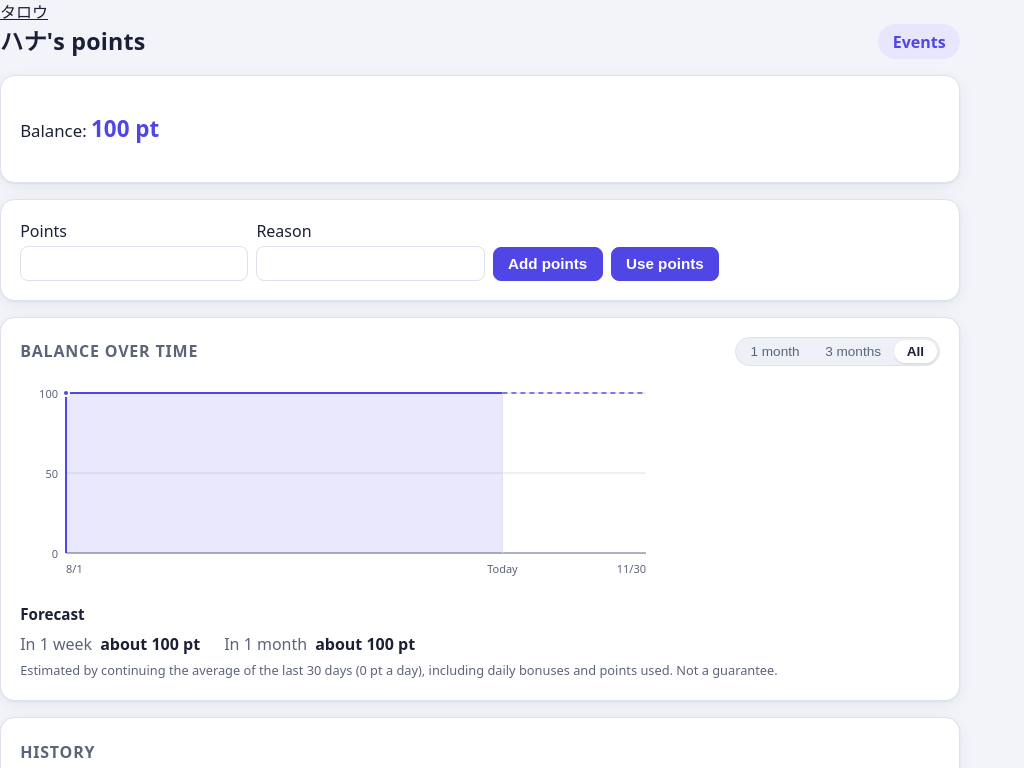
Test: LedgerPage › 別の子へ移ったら、前の子の残高を出したまま待たない
Expected: the text "100 pt" is shown, [91,113,159,144]
Click the link "タロウ": (24, 12) [0,1,48,23]
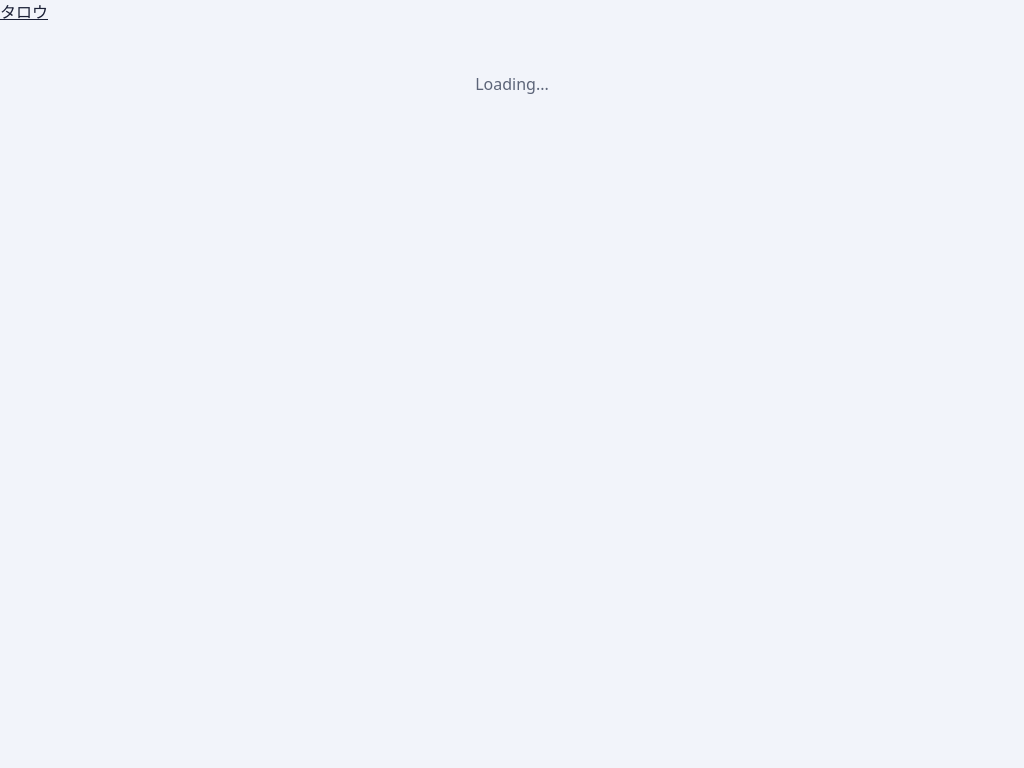
Result: the text "100 pt" is gone
Result: the text "Loading..." is shown at [475,73,549,95]
